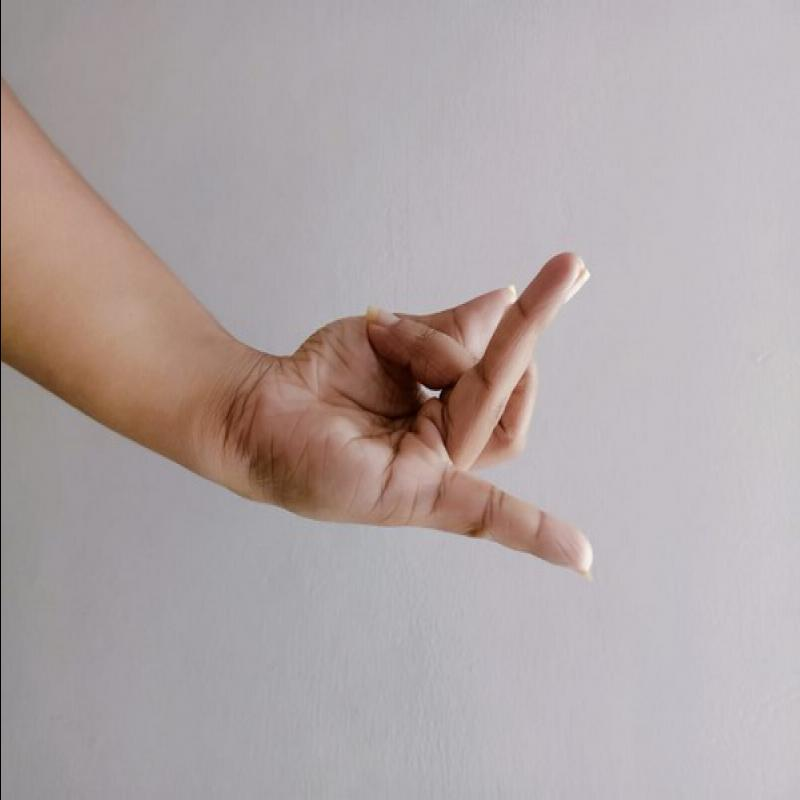Katakam: (227, 235, 654, 595)
